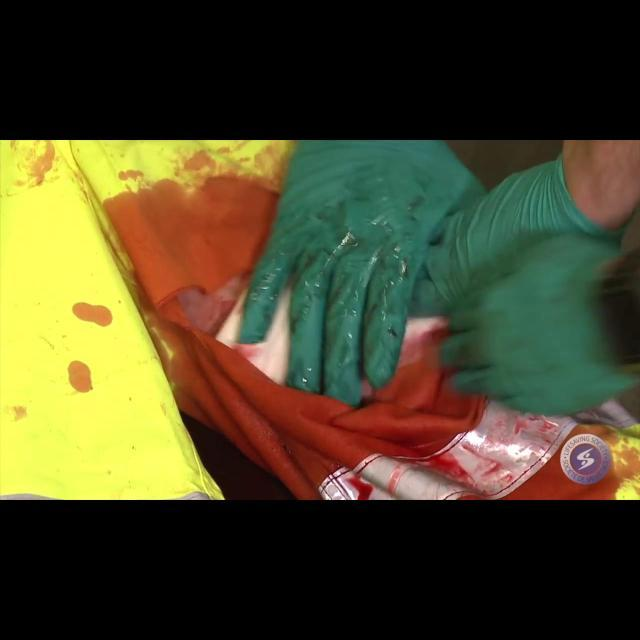blood: (104, 176, 486, 500), (104, 176, 278, 335), (502, 452, 637, 500), (398, 316, 449, 369), (408, 446, 474, 484), (31, 140, 54, 184), (72, 302, 112, 326), (67, 360, 92, 392), (184, 149, 216, 169), (348, 476, 373, 500), (118, 168, 144, 180)
